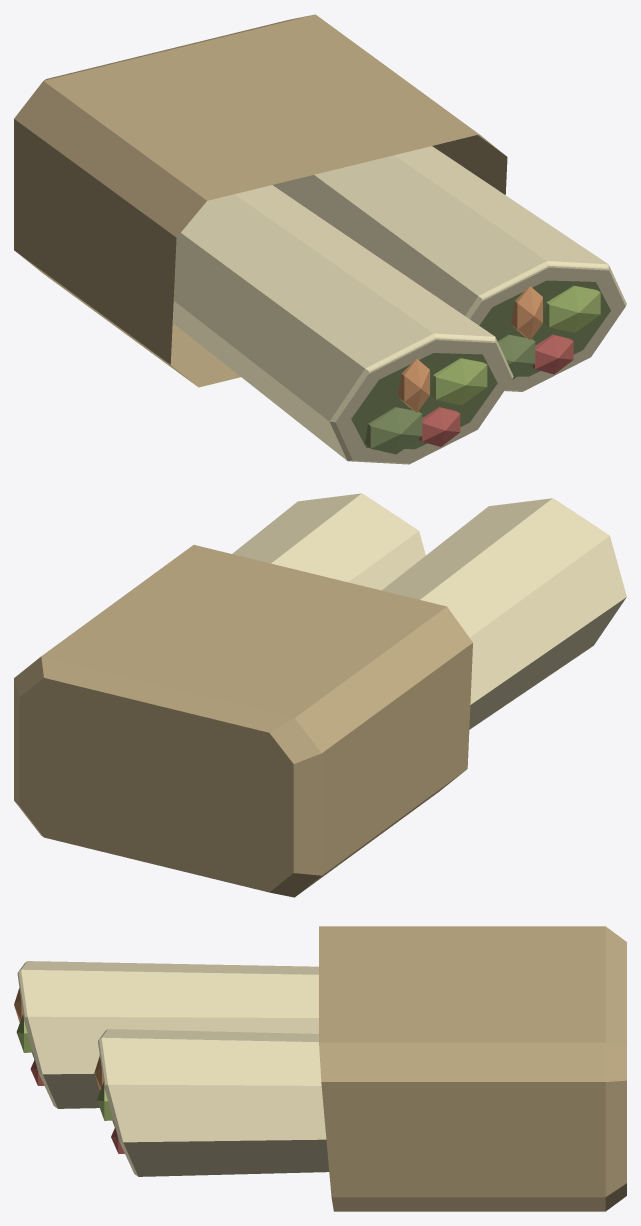
The model's file is wrap.glb.
3 views of the same model, one above another, from view 1: azimuth 30°, elevation 25°; view 2: azimuth 150°, elevation 25°; view 3: azimuth 270°, elevation 25° (orthographic). The views are drawn at different scales.
Visible parts, largest first — view 1: wrap; view 2: wrap; view 3: wrap.
Boxes of the visible parts, bbox=[...] form: wrap: bbox=[14, 14, 626, 464]; wrap: bbox=[14, 493, 626, 897]; wrap: bbox=[14, 926, 626, 1211].
Bounding box in the file's own units: 0.082 × 0.0457 × 0.1448.
